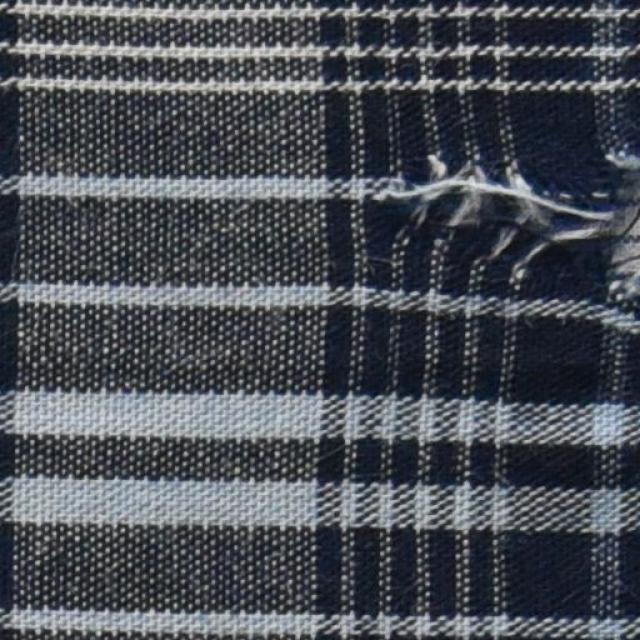Hole: (597, 179, 639, 299)
Snag: (375, 139, 631, 316)
